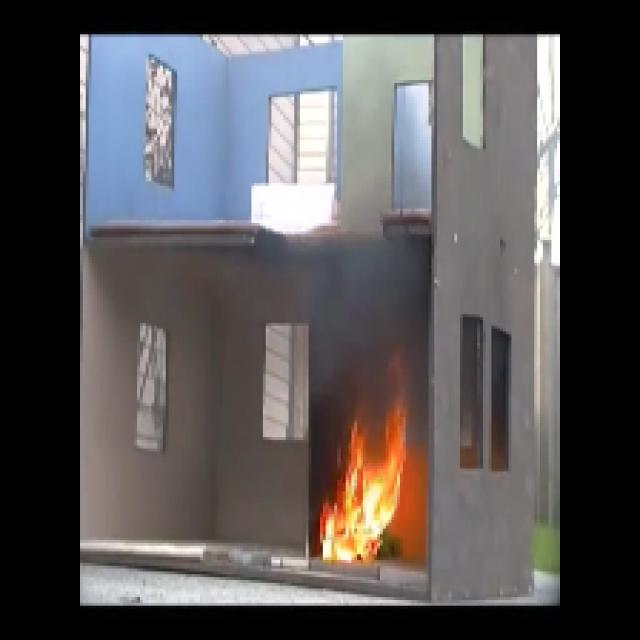fire: (322, 425, 403, 554)
smoke: (325, 246, 419, 337)
